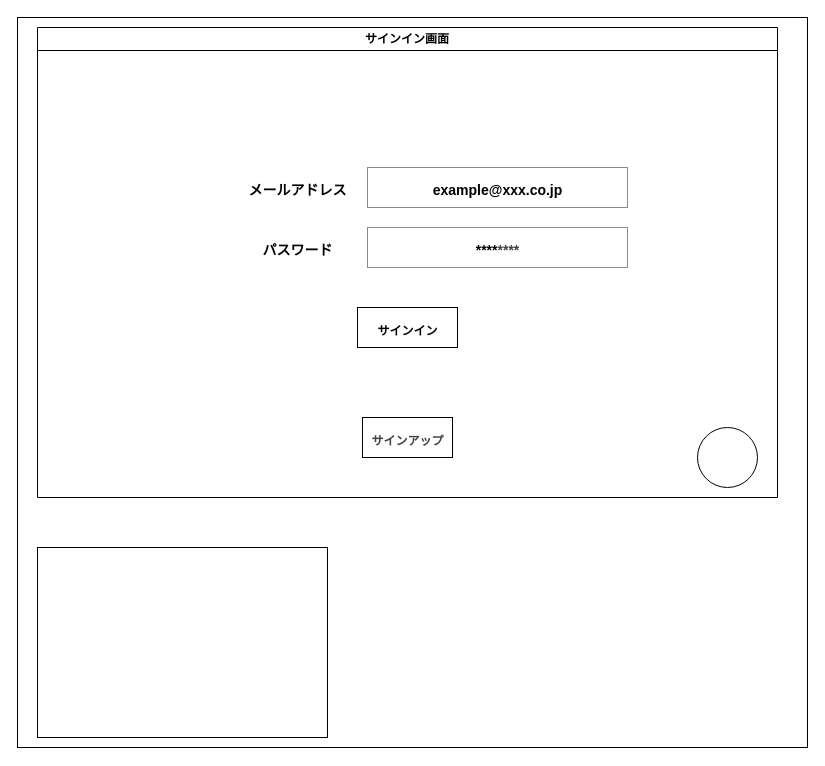
Image size: 825x766. Some labels were removed from this diagram. The shapes that lost their labels are listed below. From the top down, each one's centre as x and y in pixels, then its label:
At pixel 727 457: "画面モード プルダウン".
At pixel 182 642: "バリデーション仕様 メールアドレス： メールアドレスチェック （バリデーション一覧参照） パスワード： 長さチェック(8文字以上20文字以下)".
